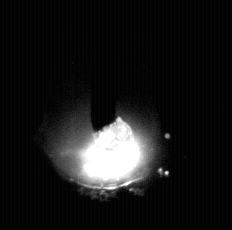arame: (91, 0, 118, 132)
poca: (43, 0, 163, 230)
